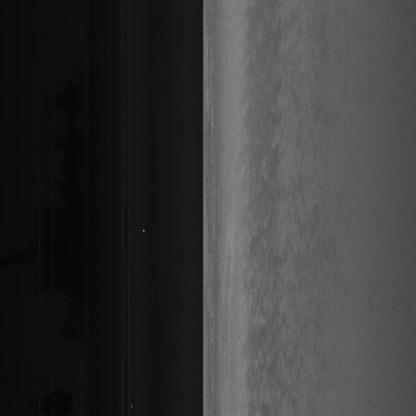silk_spot: (232, 94, 268, 321)
